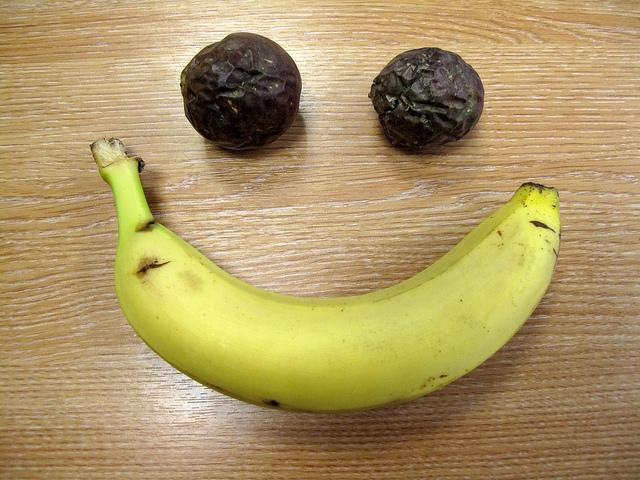banana: (89, 136, 561, 414)
